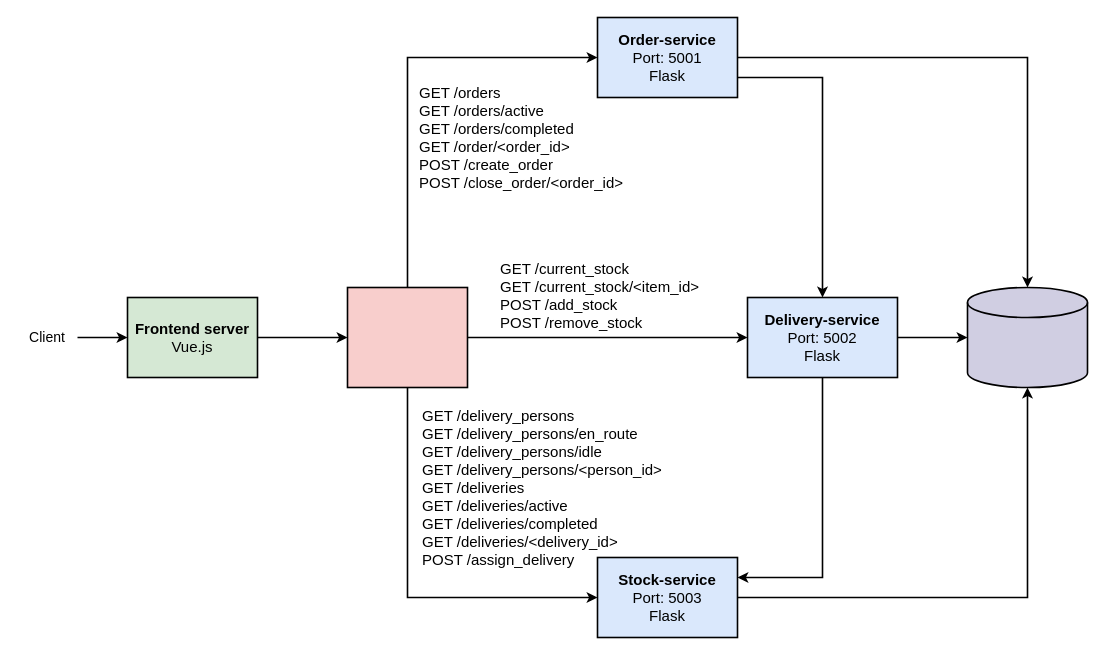
Some shapes in this 1105 by 656 pixel diagram are drawn without their labels. The shapes that lost their labels are listed below. From the top down, each one's centre as x and y in pixels, then its label:
the point at 407,337: API Gateway Port: 5000 Flask
the point at 1027,337: Database MySQL
